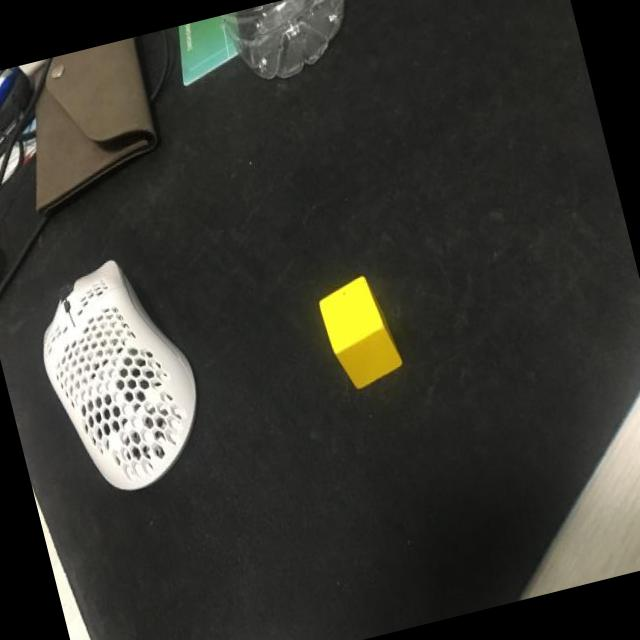yellow: (315, 272, 407, 394)
